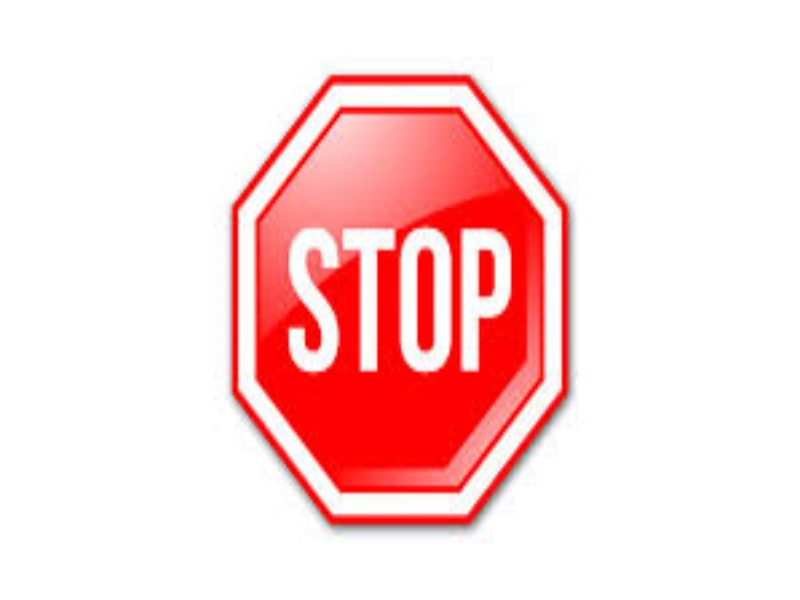Stop_Sign: (234, 79, 560, 512)
